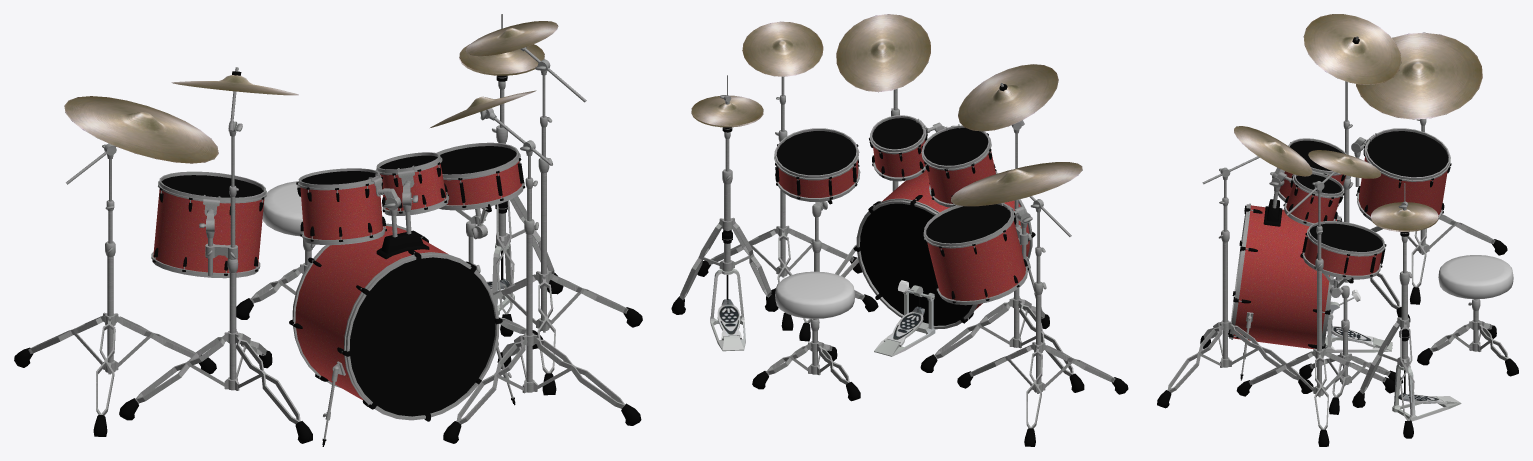
Rendered from Drum_Kit.fbx.
3 views of the same model, side by side, from view 1: azimuth 30°, elevation 25°; view 2: azimuth 150°, elevation 25°; view 3: azimuth 270°, elevation 25° (orthographic). The views are drawn at different scales.
Parts seen in each view (by area): view 1: Stands, Drums_Body, Drum_Skin_Main, Rims, Drumkit_Cymbal_03, BlackPlastic, Drum_Skin_Top, Stood_Seat, Drumkit_Cymbal_01, Drumkit_Cymbal_02, FootPedal_A_Frame; view 2: Stands, Drumkit_Cymbal_03, Drums_Body, Drum_Skin_Top, Drum_Skin_Bottom, Rims, Drumkit_Cymbal_02, BlackPlastic, Stood_Seat, Drumkit_Cymbal_01, FootPedal_B_Frame, FootPedal_A_Frame (+2 smaller); view 3: Drums_Body, Stands, Drumkit_Cymbal_03, Drum_Skin_Top, Drumkit_Cymbal_02, BlackPlastic, Rims, Stood_Seat, Drumkit_Cymbal_01, FootPedal_A_Frame, FootPedal_B_Frame, FootPedal_B.
Part boxes in pixels (x1,y1,x2,y2): Stands: [28, 14, 628, 439]; Drums_Body: [153, 161, 522, 400]; Drum_Skin_Main: [349, 257, 495, 416]; Rims: [151, 142, 524, 420]; Drumkit_Cymbal_03: [64, 21, 558, 163]; BlackPlastic: [14, 71, 642, 446]; Drum_Skin_Top: [161, 146, 516, 197]; Stood_Seat: [262, 181, 303, 236]; Drumkit_Cymbal_01: [459, 44, 544, 75]; Drumkit_Cymbal_02: [171, 75, 298, 95]; FootPedal_A_Frame: [492, 242, 514, 314]; Stands: [679, 75, 1115, 428]; Drumkit_Cymbal_03: [742, 14, 1082, 206]; Drums_Body: [778, 140, 1029, 309]; Drum_Skin_Top: [776, 118, 1010, 243]; Drum_Skin_Bottom: [860, 203, 972, 325]; Rims: [774, 115, 1032, 329]; Drumkit_Cymbal_02: [958, 64, 1058, 131]; BlackPlastic: [671, 84, 1128, 446]; Stood_Seat: [775, 271, 855, 318]; Drumkit_Cymbal_01: [691, 95, 763, 127]; FootPedal_B_Frame: [874, 285, 935, 356]; FootPedal_A_Frame: [710, 268, 745, 351]; Drums_Body: [1233, 157, 1447, 349]; Stands: [1167, 36, 1508, 429]; Drumkit_Cymbal_03: [1234, 32, 1482, 178]; Drum_Skin_Top: [1290, 131, 1448, 251]; Drumkit_Cymbal_02: [1303, 14, 1401, 84]; BlackPlastic: [1157, 37, 1518, 446]; Rims: [1229, 128, 1450, 346]; Stood_Seat: [1438, 255, 1513, 299]; Drumkit_Cymbal_01: [1371, 202, 1438, 231]; FootPedal_A_Frame: [1392, 364, 1461, 421]; FootPedal_B_Frame: [1324, 297, 1392, 352]; FootPedal_B: [1326, 323, 1376, 347].
Size of the model in its own units: 3.02 by 1.88 by 2.26.
